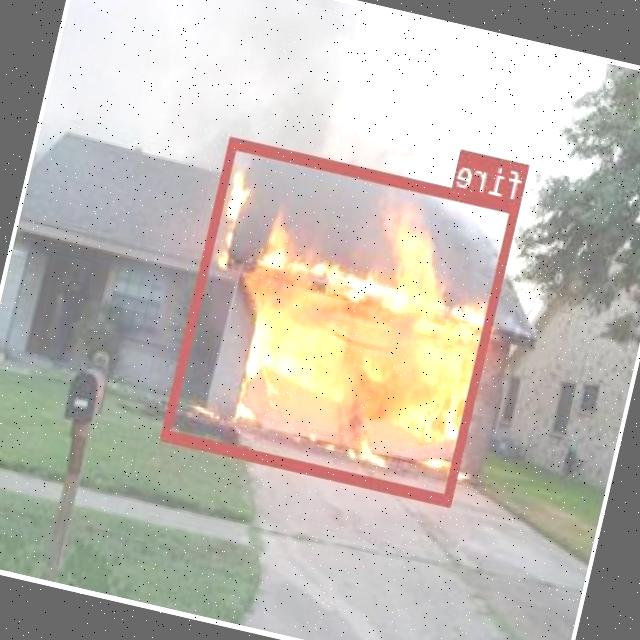fire: (163, 134, 521, 503)
